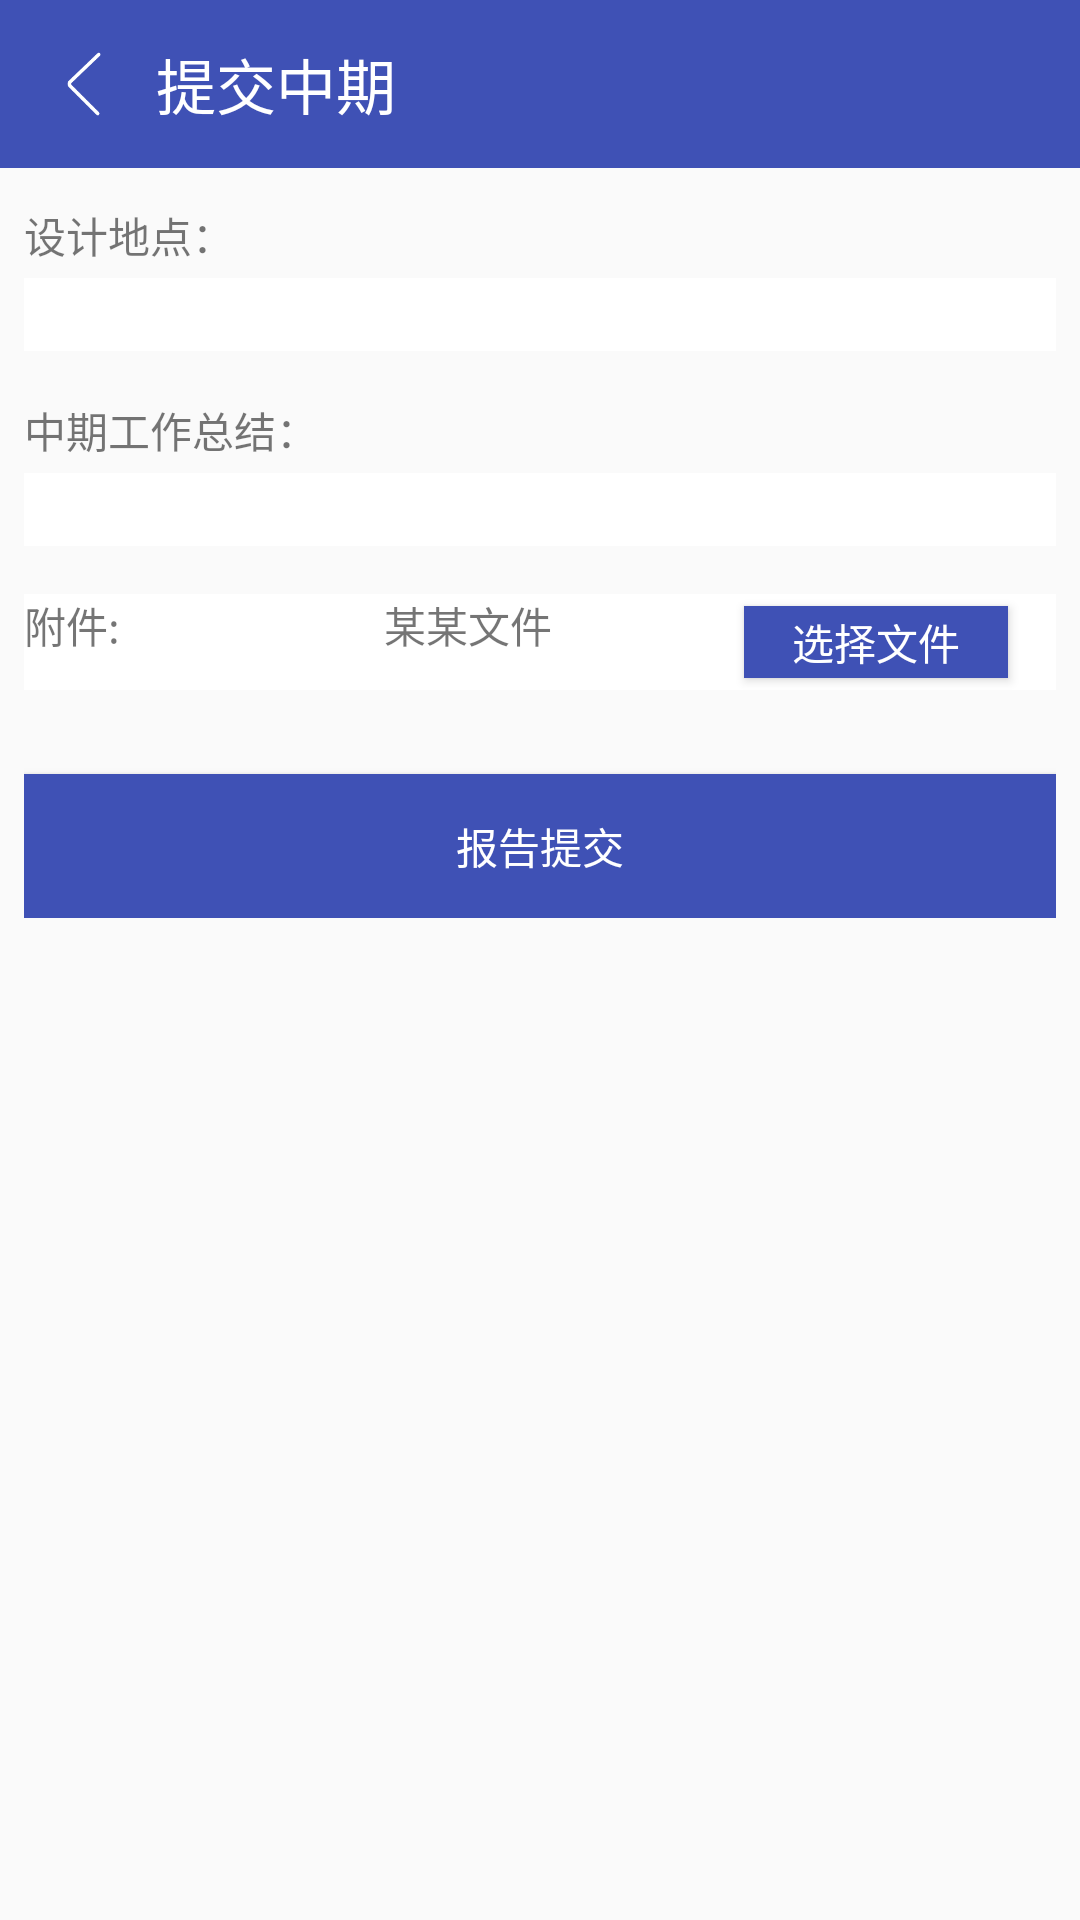

Locate icon controls on the screen. Image size 1080px x 1920px, boxes as (x1, y1, x2, y2).
arrowleft: (67, 52, 101, 116)
